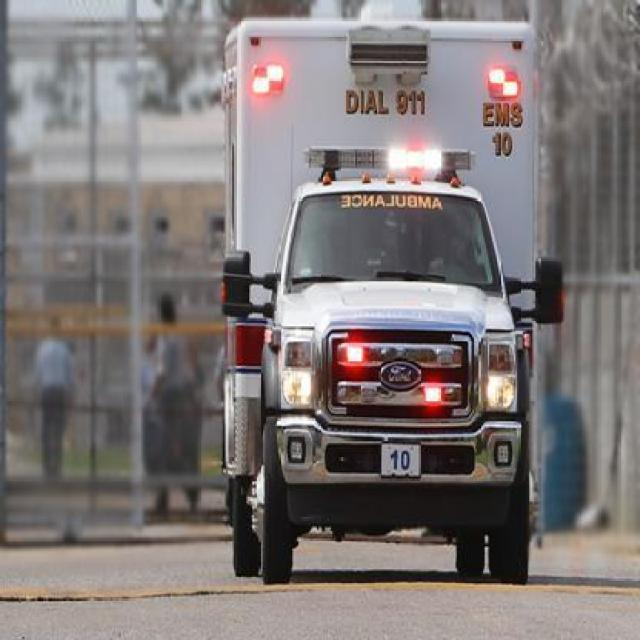Ambulance: (167, 22, 590, 576)
